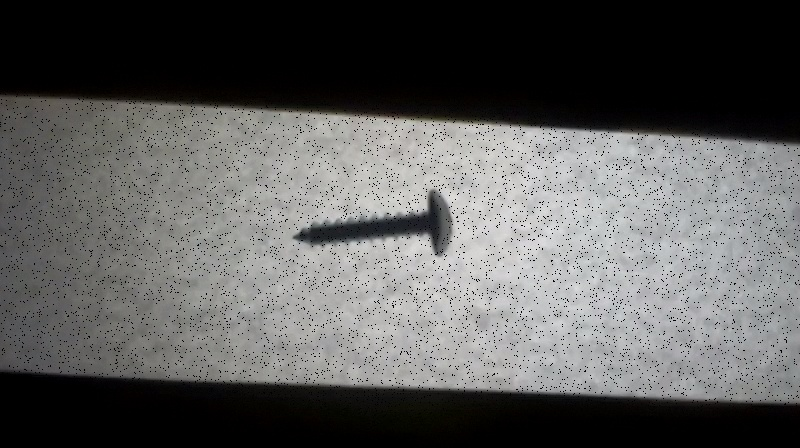S003: (289, 185, 457, 263)
